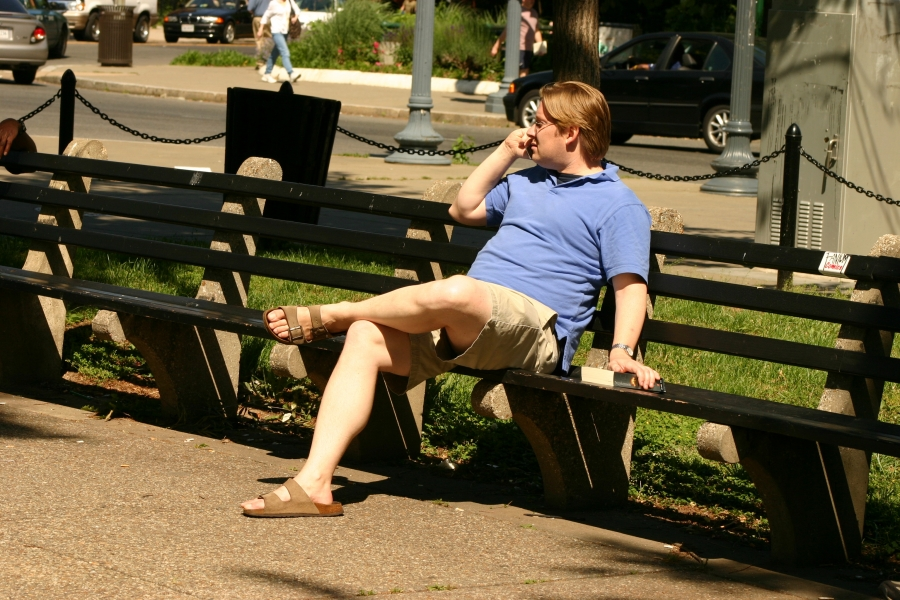phone: (517, 129, 535, 171)
